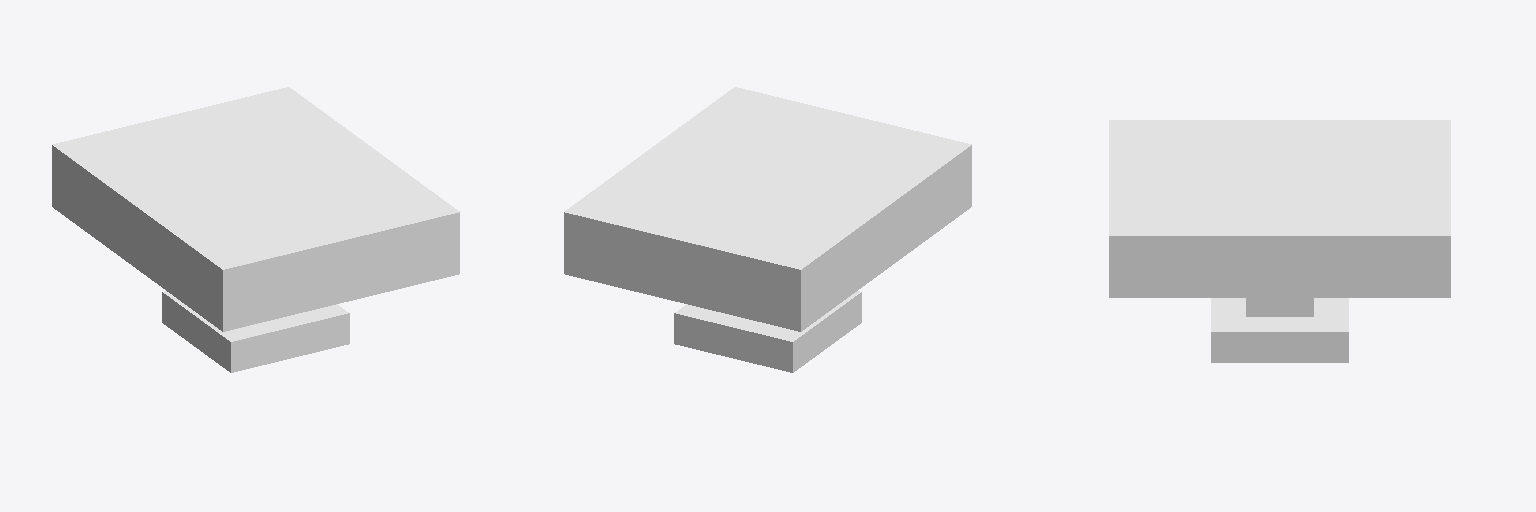
The model's file is TVS_VoxelKnights_Stool.obj.
3 renders of one model, left to right at view 1: azimuth 30°, elevation 25°; view 2: azimuth 150°, elevation 25°; view 3: azimuth 270°, elevation 25°, orthographic.
Visible parts, largest first — view 1: ObjObject.023; view 2: ObjObject.023; view 3: ObjObject.023.
Boxes of the visible parts, x1,y1,x2,y2 form: ObjObject.023: [52, 87, 459, 372]; ObjObject.023: [564, 87, 971, 372]; ObjObject.023: [1109, 120, 1450, 362].
Bounding box in the file's own units: 0.8 × 0.5 × 1.